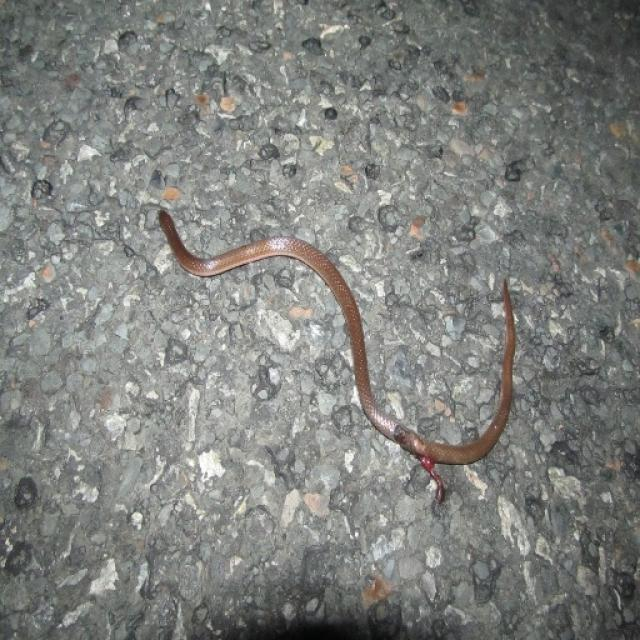snake: (148, 189, 528, 474)
